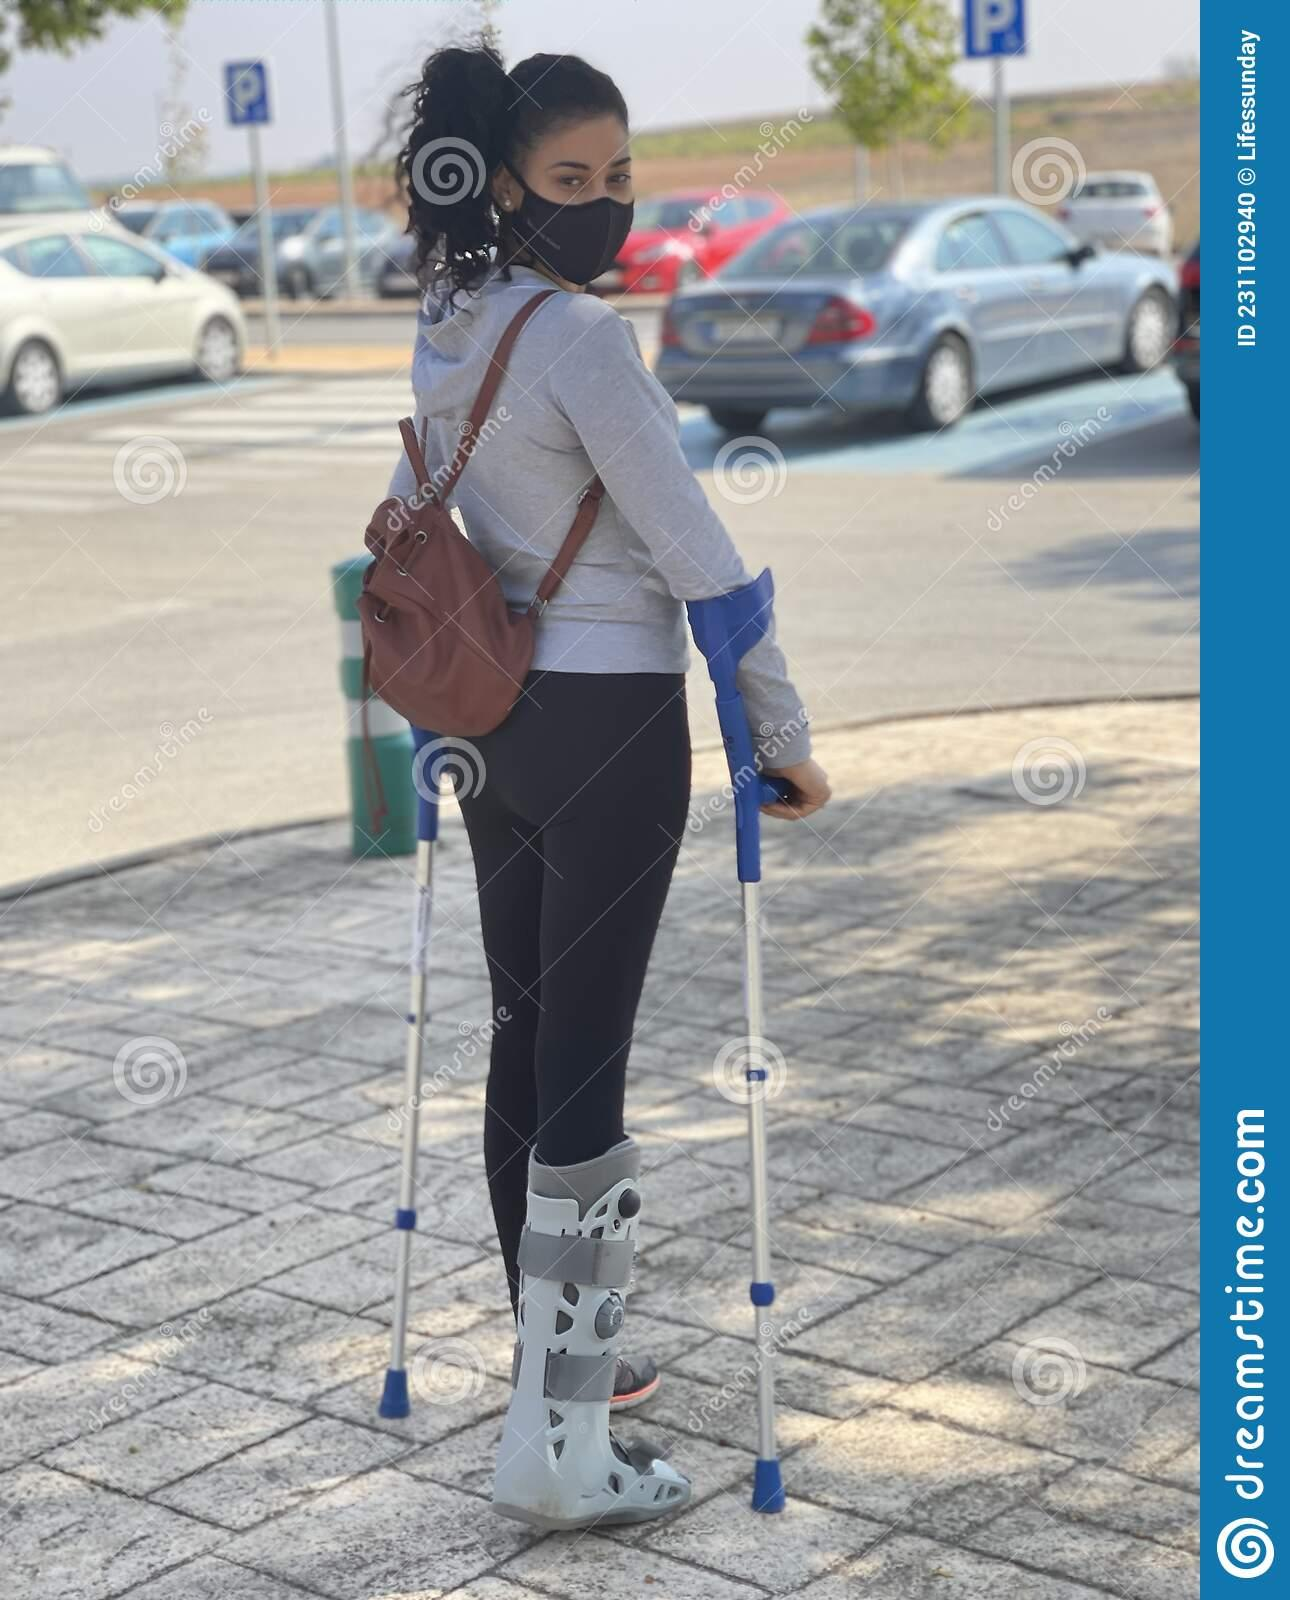crutches: (355, 50, 836, 1530)
